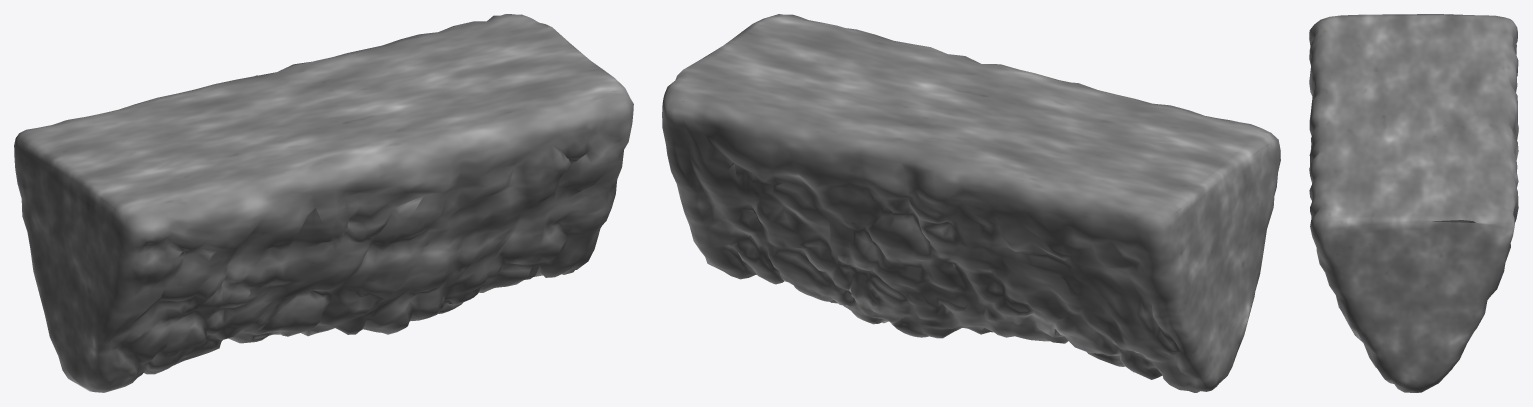
File: Main Rock 2.fbx
3 views of the same model, side by side, from view 1: azimuth 30°, elevation 25°; view 2: azimuth 150°, elevation 25°; view 3: azimuth 270°, elevation 25° (orthographic). The views are drawn at different scales.
Visible parts, largest first — view 1: Main rock 2; view 2: Main rock 2; view 3: Main rock 2.
Part boxes in pixels (x1,y1,x2,y2): Main rock 2: [14, 14, 633, 392]; Main rock 2: [662, 14, 1280, 392]; Main rock 2: [1309, 14, 1518, 392].
Bounding box in the file's own units: 428 × 186 × 182.
